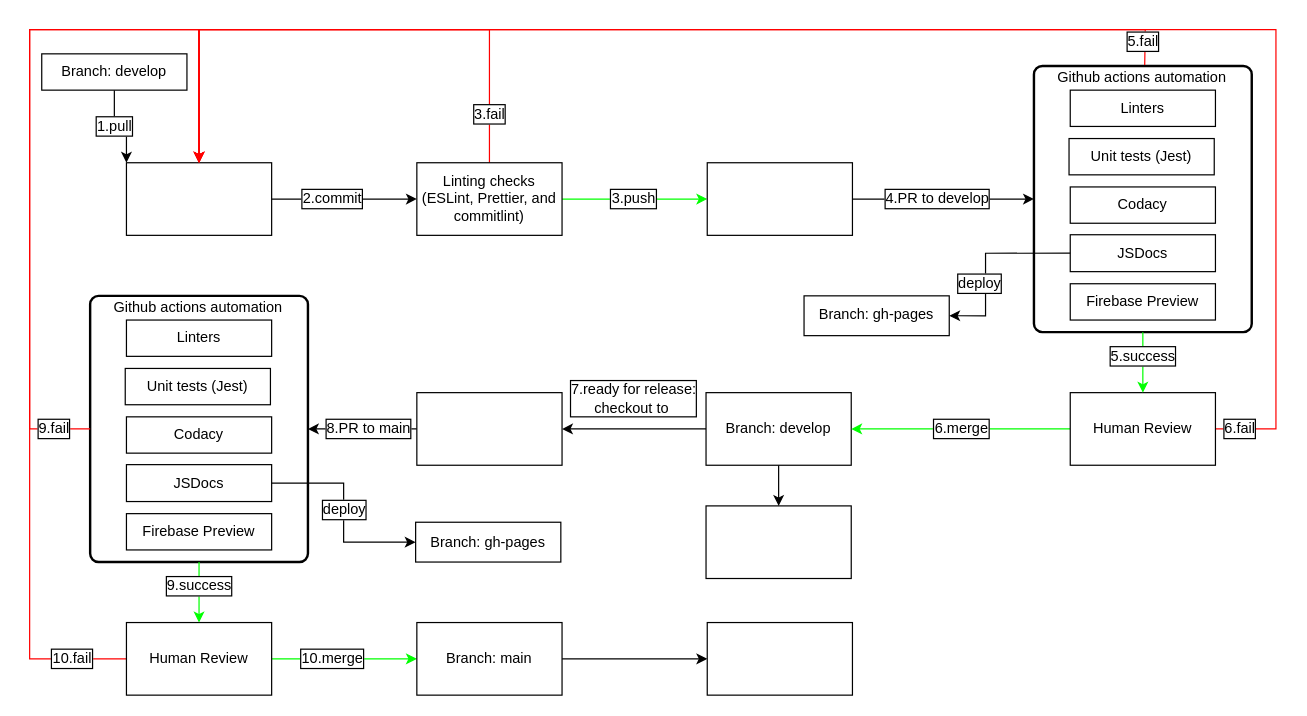
Image size: 1307x716. Some labels were removed from this diagram. Each missing label, with the centre of its shape:
"Branch: current feature branch" belongs at pixel 779 198.
"Branch: new release branch" belongs at pixel 489 428.
"Deploy develop on dev site by firebase" belongs at pixel 778 542.
"Deploy main on live site by firebase" belongs at pixel 779 658.
"Local machine (VScode IDE)" belongs at pixel 198 198.
